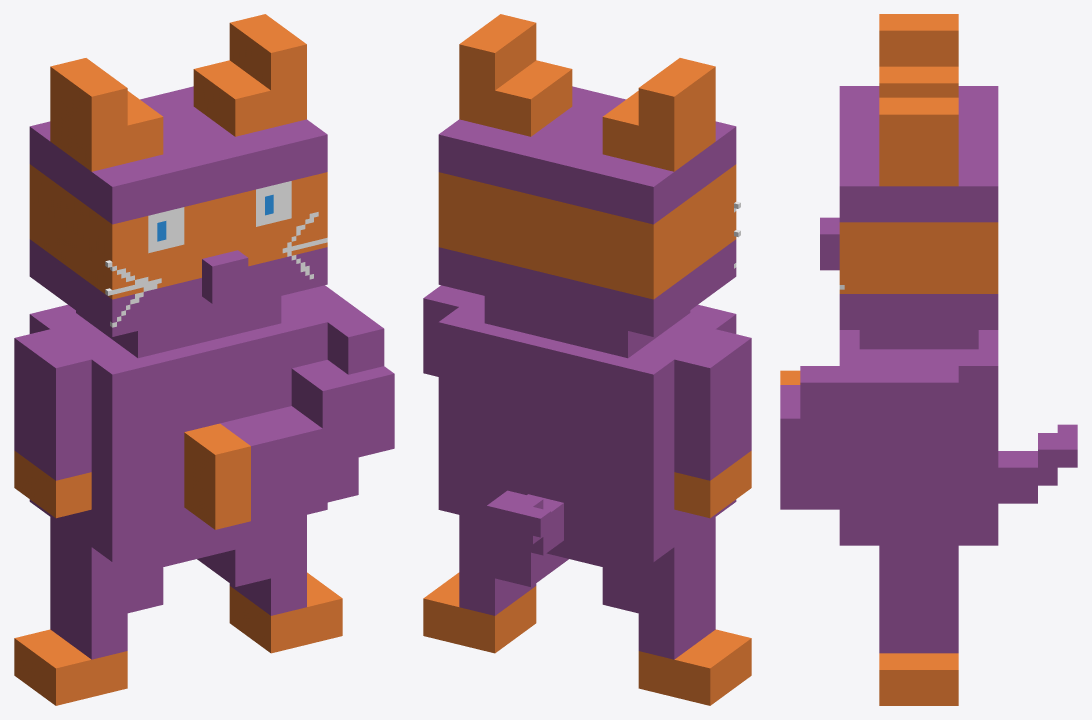
File: 3dslash-CatPlayer.fbx
3 views of the same model, side by side, from view 1: azimuth 30°, elevation 25°; view 2: azimuth 150°, elevation 25°; view 3: azimuth 270°, elevation 25° (orthographic). The views are drawn at different scales.
Parts seen in each view (by area): view 1: default; view 2: default; view 3: default.
Part boxes in pixels (bbox=[...]): default: bbox=[14, 14, 394, 705]; default: bbox=[423, 14, 751, 705]; default: bbox=[780, 14, 1077, 705].
Bounding box in the file's own units: 32 × 64 × 30.
